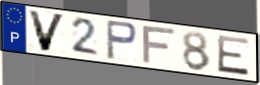2: (69, 16, 100, 59)
8: (181, 30, 212, 72)
E: (215, 34, 251, 78)
F: (140, 25, 177, 65)
P: (105, 18, 139, 62)
V: (26, 9, 68, 53)
